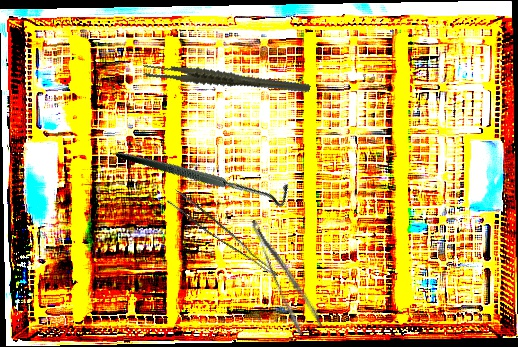Dressing Forceps: (248, 211, 324, 337)
Hook Surgical: (114, 84, 296, 262)
Tissue Forceps: (140, 35, 312, 124), (164, 188, 287, 278)
